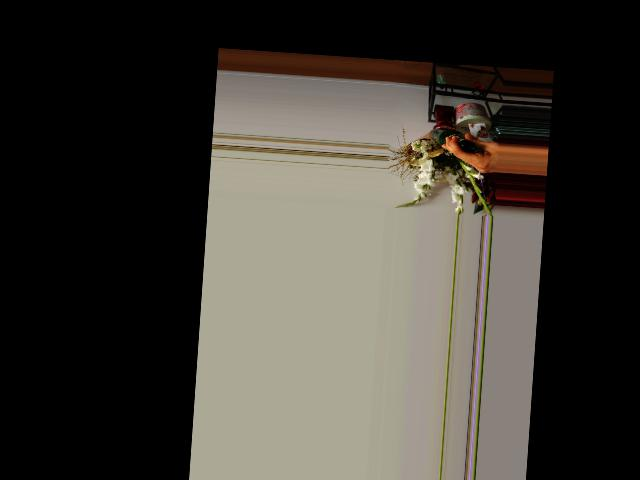beer: (430, 126, 477, 152)
